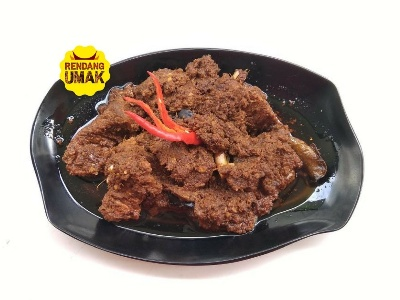rendang: (74, 64, 299, 230)
